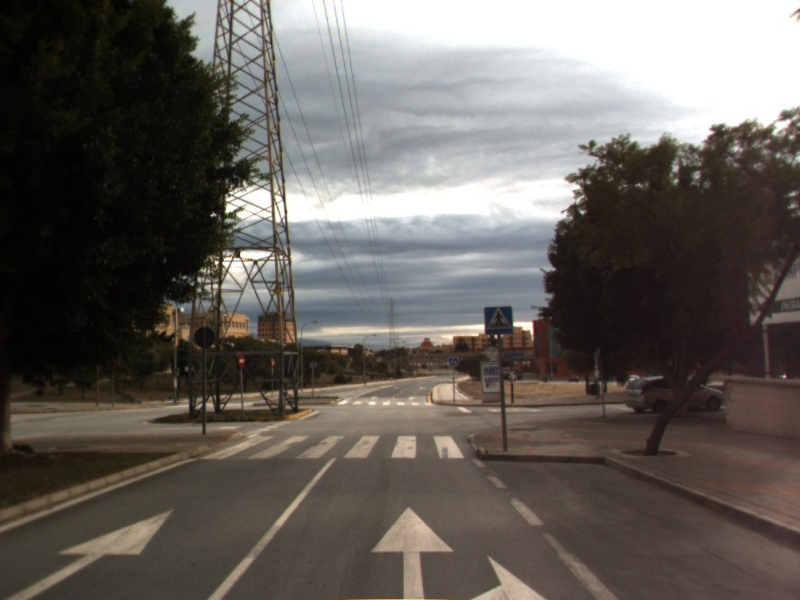STRAIGHT: (3, 503, 179, 600)
STRAIGHT_RIGHT: (366, 502, 556, 600)
